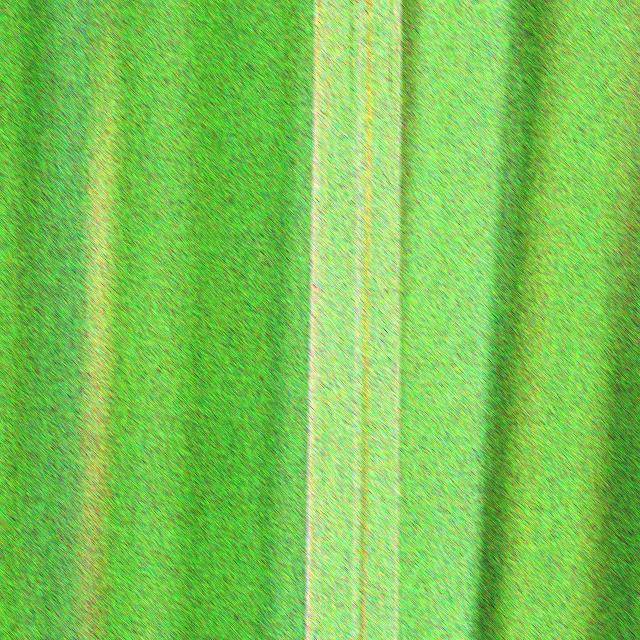BLS: (305, 0, 320, 640), (359, 0, 373, 640), (348, 0, 352, 215), (326, 0, 329, 284), (389, 0, 392, 118), (394, 0, 397, 116)
